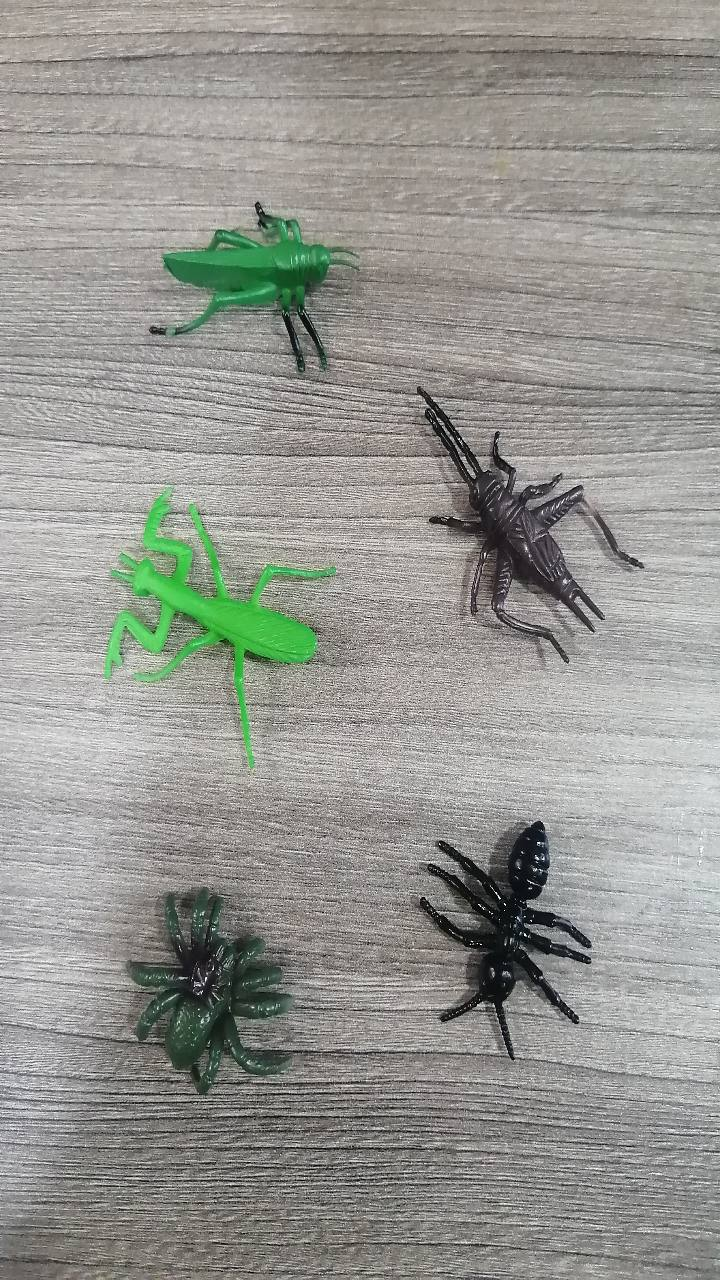intruso: (394, 362, 655, 689), (72, 460, 346, 754), (371, 774, 631, 1074), (95, 849, 309, 1128), (132, 166, 368, 402)
